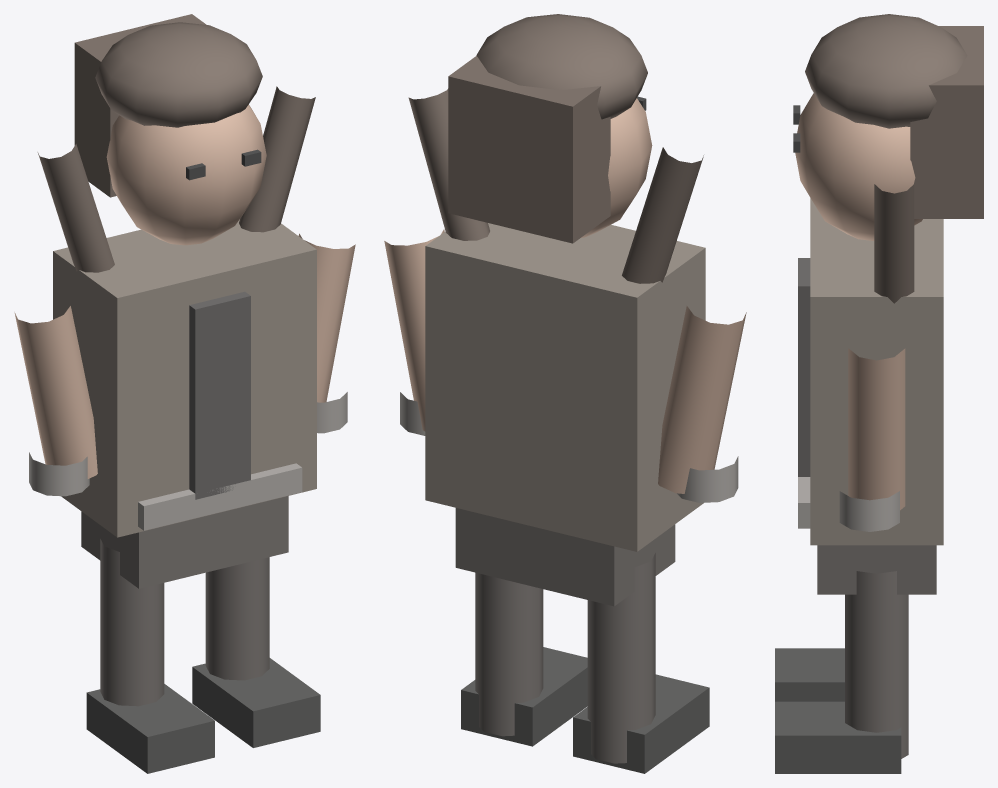
File: vander.glb
3 views of the same model, side by side, from view 1: azimuth 30°, elevation 25°; view 2: azimuth 150°, elevation 25°; view 3: azimuth 270°, elevation 25° (orthographic). The views are drawn at different scales.
Visible parts, largest first — view 1: Torso, Head, HairCap, Vest, Pelvis, ArmL, LegL, FootR, FootL, LegR, HairBack, HairR (+5 smaller); view 2: Torso, HairBack, Pelvis, HairCap, LegL, ArmL, LegR, FootL, HairL, FootR, ArmR, Head (+3 smaller); view 3: Torso, HairCap, Head, HairBack, LegR, ArmR, FootR, Pelvis, HairR, FootL, Vest, CuffR (+1 smaller).
Part boxes in pixels (bbox=[...]): Torso: bbox=[53, 219, 316, 537]; Head: bbox=[106, 104, 266, 245]; HairCap: bbox=[95, 22, 262, 127]; Vest: bbox=[189, 291, 250, 499]; Pelvis: bbox=[81, 496, 288, 588]; ArmL: bbox=[14, 306, 97, 478]; LegL: bbox=[100, 539, 164, 706]; FootR: bbox=[192, 658, 320, 747]; FootL: bbox=[86, 684, 214, 773]; LegR: bbox=[205, 557, 269, 680]; HairBack: bbox=[74, 14, 206, 197]; HairR: bbox=[239, 86, 315, 232]; Torso: bbox=[425, 223, 705, 551]; HairBack: bbox=[448, 56, 610, 243]; Pelvis: bbox=[455, 508, 675, 606]; HairCap: bbox=[476, 14, 647, 119]; LegL: bbox=[587, 553, 655, 763]; ArmL: bbox=[658, 306, 746, 493]; LegR: bbox=[475, 572, 543, 736]; FootL: bbox=[573, 674, 709, 773]; HairL: bbox=[622, 147, 703, 283]; FootR: bbox=[461, 647, 587, 746]; ArmR: bbox=[384, 229, 444, 431]; Head: bbox=[581, 98, 652, 237]; Torso: bbox=[810, 198, 943, 545]; HairCap: bbox=[805, 14, 967, 128]; Head: bbox=[795, 93, 922, 240]; HairBack: bbox=[910, 26, 983, 218]; LegR: bbox=[845, 571, 908, 758]; ArmR: bbox=[848, 348, 905, 510]; FootR: bbox=[775, 701, 901, 773]; Pelvis: bbox=[817, 545, 936, 594]; HairR: bbox=[874, 184, 914, 303]; FootL: bbox=[775, 648, 844, 701]; Vest: bbox=[798, 258, 810, 476]; CuffR: bbox=[839, 491, 899, 531].
Bounding box in the file's own units: 1.14 × 2.21 × 0.595.
